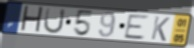5: (71, 10, 95, 37)
9: (97, 11, 117, 39)
E: (123, 14, 151, 41)
H: (19, 5, 45, 35)
K: (150, 15, 172, 42)
U: (42, 7, 67, 35)
